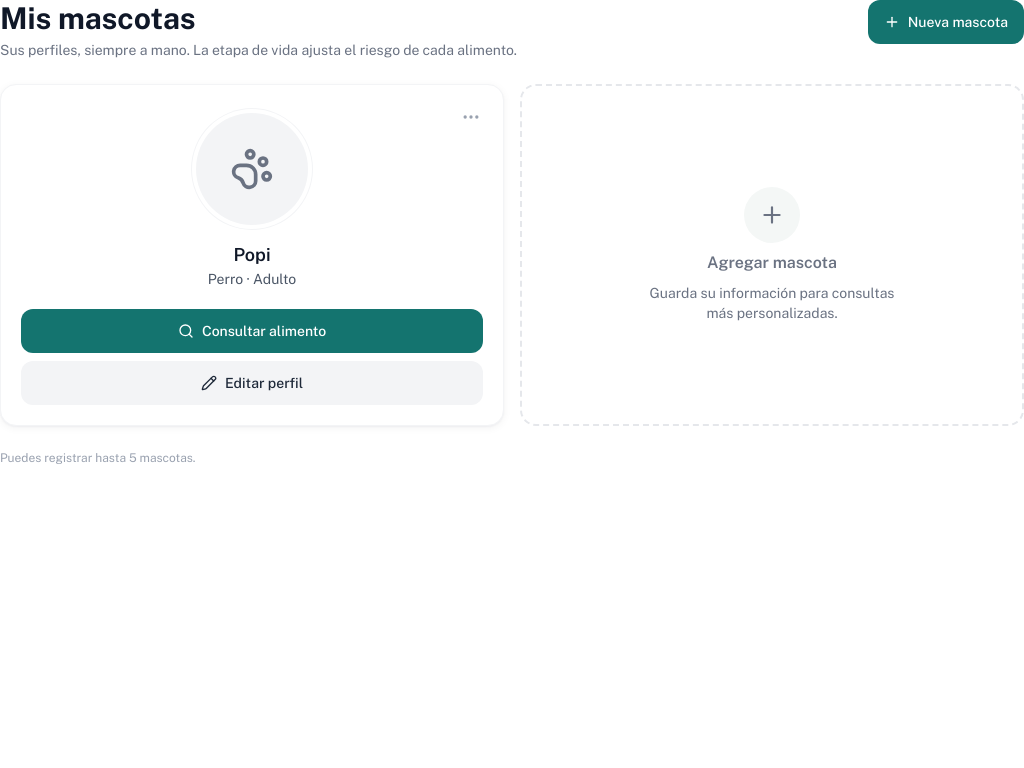
PetsPage › deletes a pet after confirming
The width and height of the screenshot is (1024, 768).
Click the button named "Más opciones para Popi" at (471, 117), box [451,97,491,137]
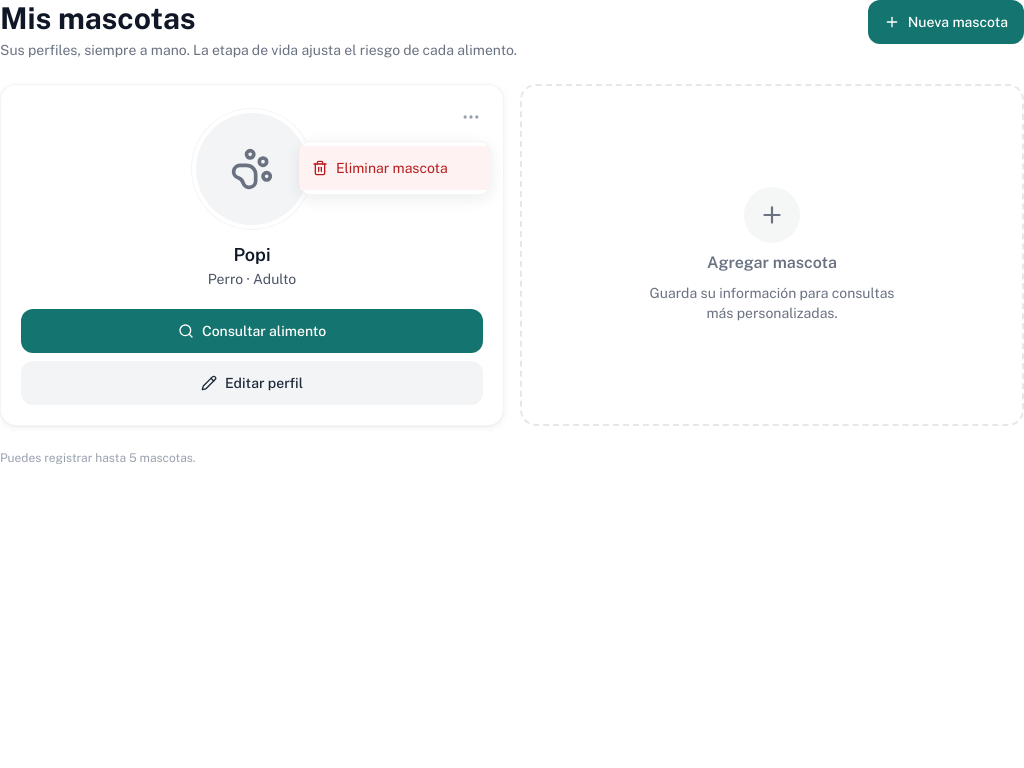
Click the menu item "Eliminar mascota" at (395, 168), box [300,146,490,190]
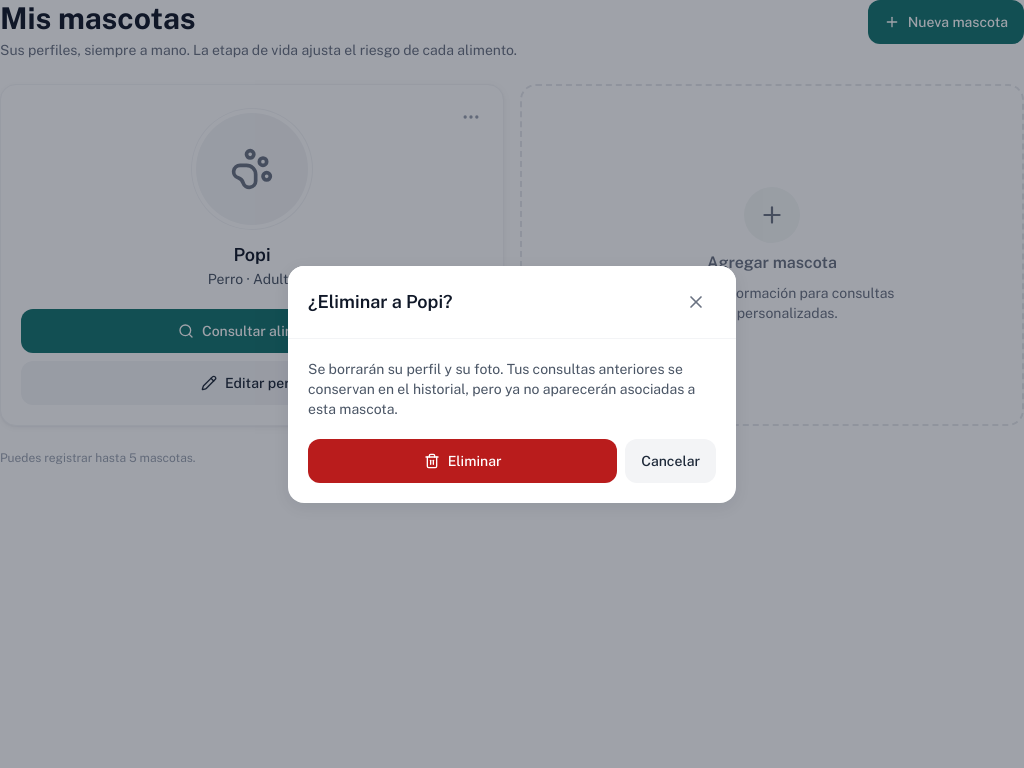
Expected: the dialog "¿Eliminar a Popi?" is shown, [288,266,736,502]
Click the button "Eliminar" at (463, 460), box [308,438,617,482]
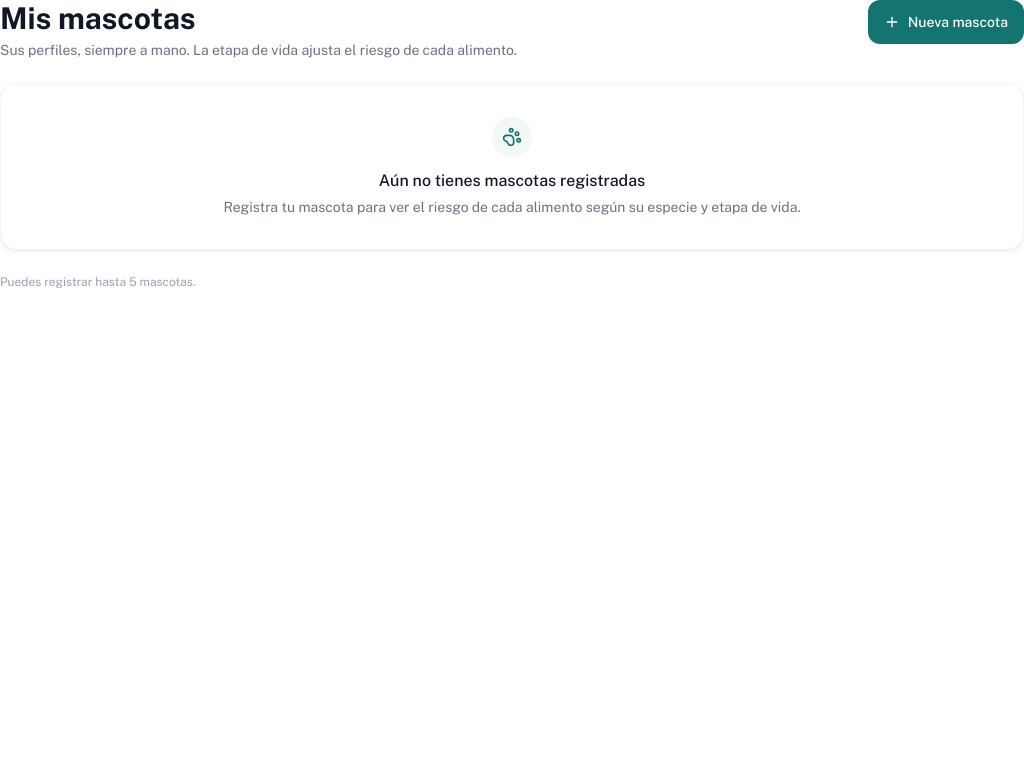
Expected: the text "Aún no tienes mascotas registradas" is shown, [379,171,645,190]
